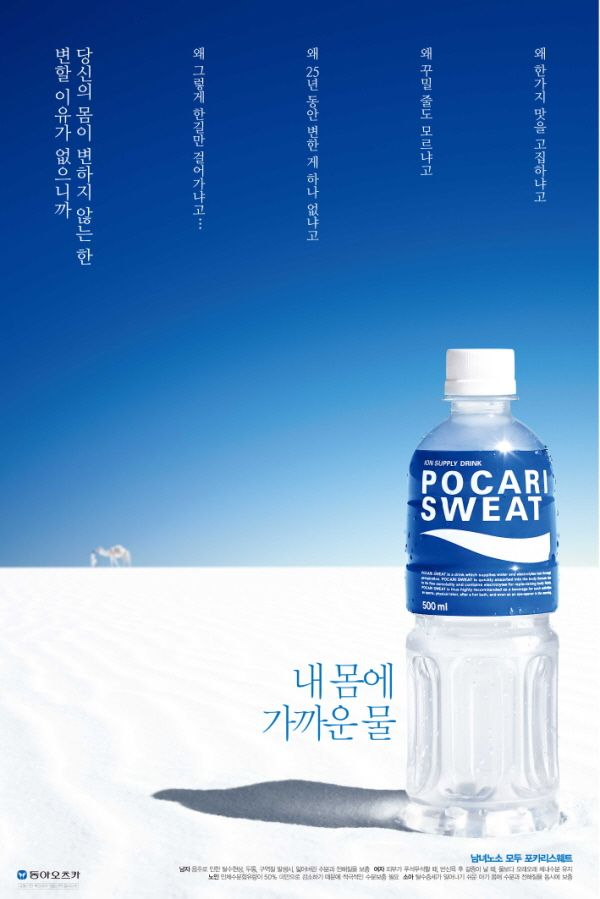POCARI SWEAT: (397, 343, 567, 837)
